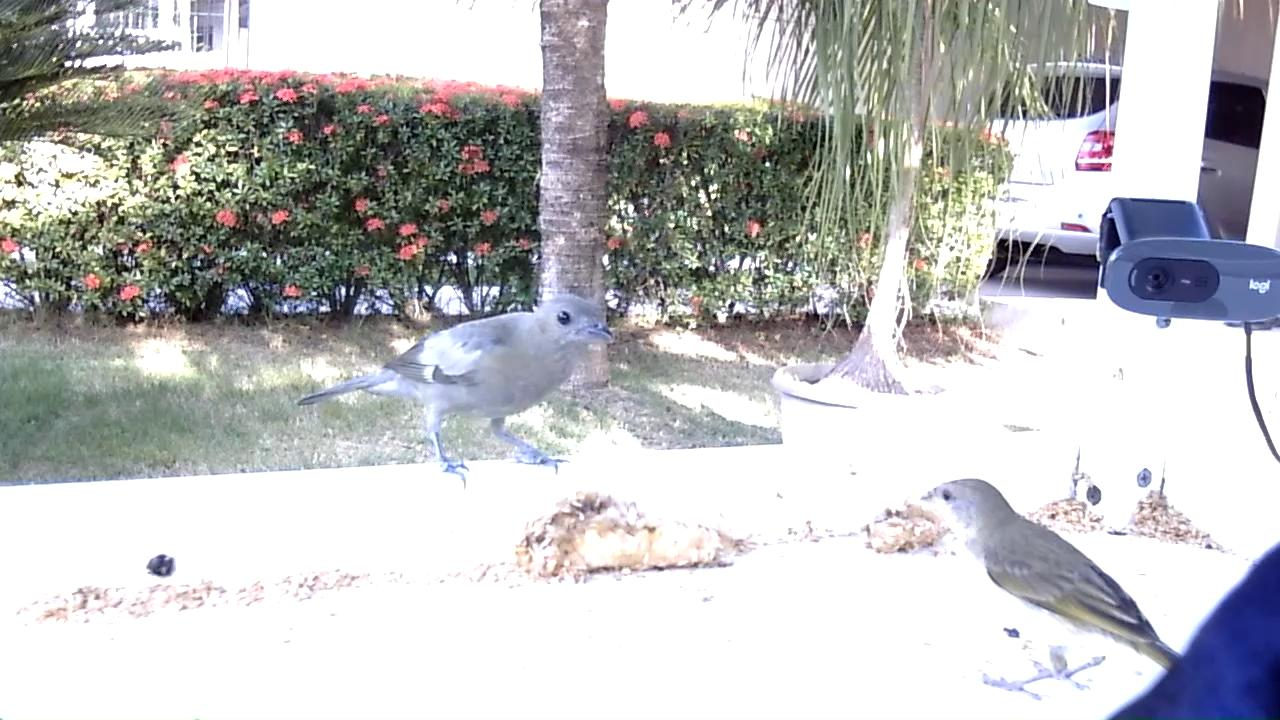canario_do_amazonas: (917, 475, 1186, 704)
sanhaco_do_coqueiro: (298, 291, 618, 491)
